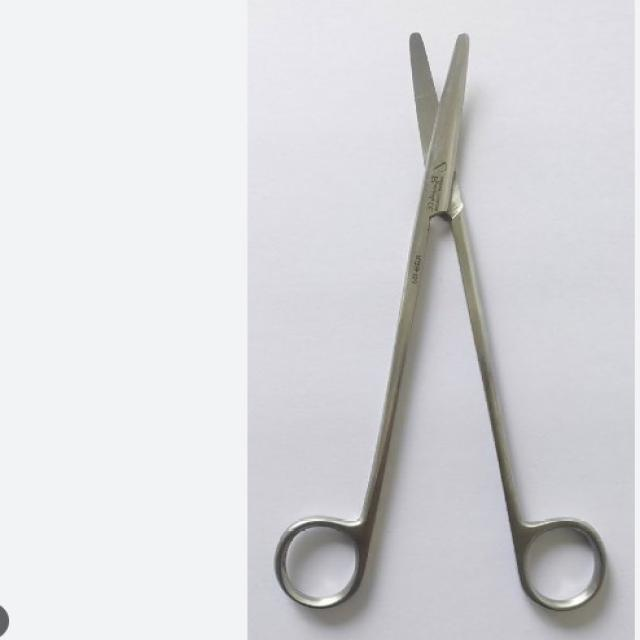Metzenbaum Sciccors: (268, 19, 612, 622)
